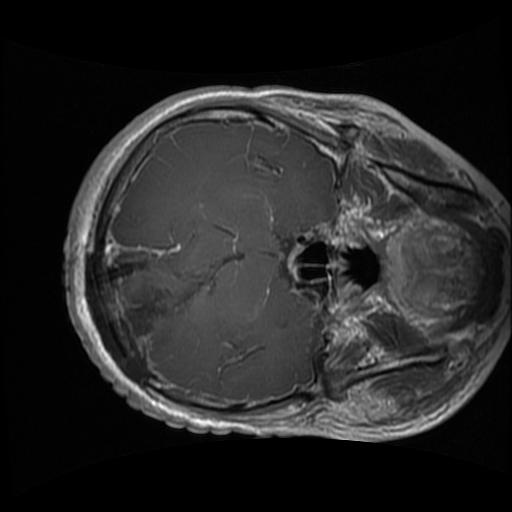glioma: (108, 247, 193, 346)
